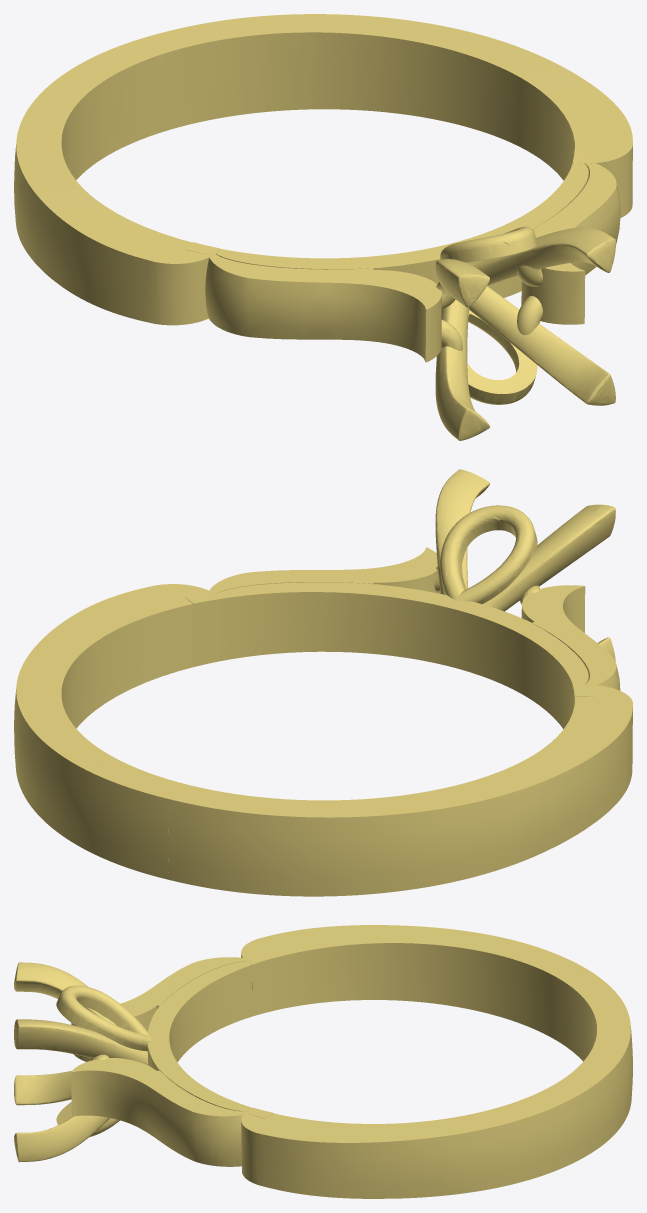
3 renders of one model, top to bottom at view 1: azimuth 30°, elevation 25°; view 2: azimuth 150°, elevation 25°; view 3: azimuth 270°, elevation 25°, orthographic. The views are drawn at different scales.
Parts seen in each view (by area): view 1: lr-0008; view 2: lr-0008; view 3: lr-0008.
Boxes of the visible parts, left/top/right/bottom form: lr-0008: left=14, top=14, right=632, bottom=440; lr-0008: left=14, top=469, right=632, bottom=896; lr-0008: left=14, top=925, right=632, bottom=1198.
Size of the model in its own units: 0.8353 by 0.2507 by 1.
